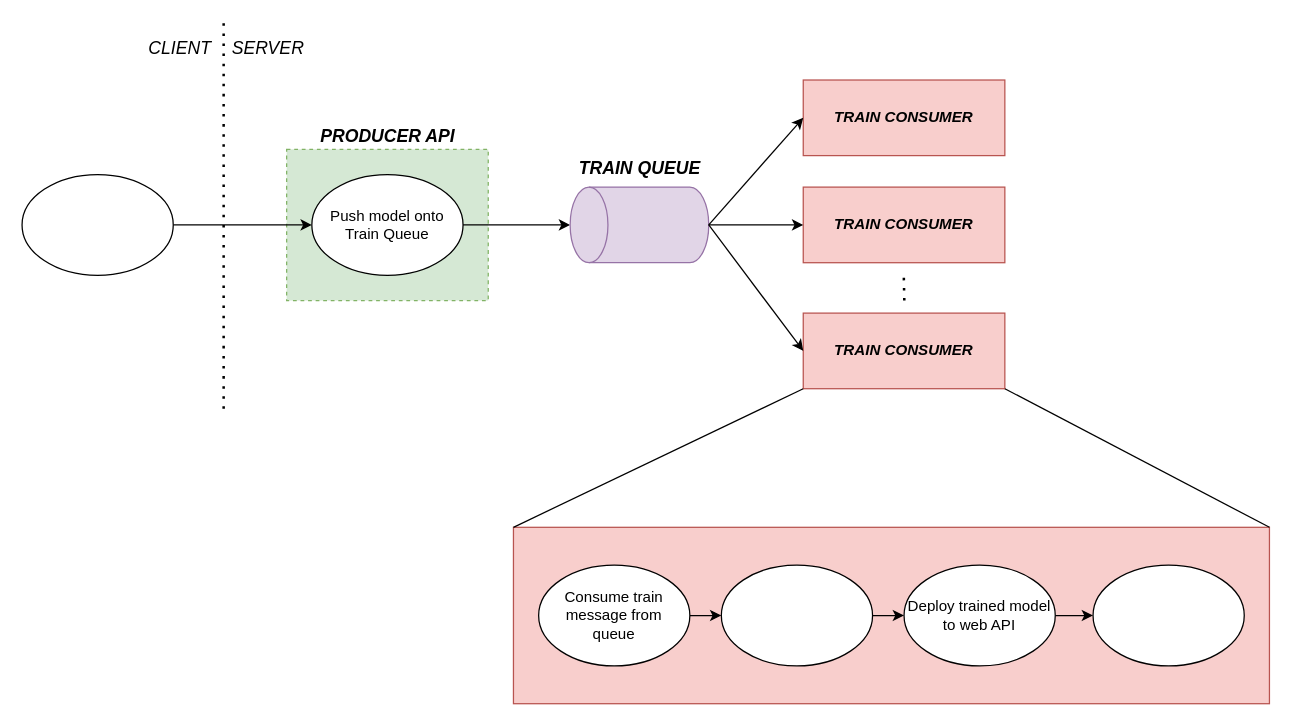
The diagram is 1293 pixels wide and 726 high, and some of its shapes have lost their labels. Here are the shapes that lost their labels. From the top down, the centre of each, then its label:
At pixel 97 224: "Send POST API to train model".
At pixel 796 615: "Train model".
At pixel 1168 615: "Send feedback to subscribed users (train fail/sucess)".
